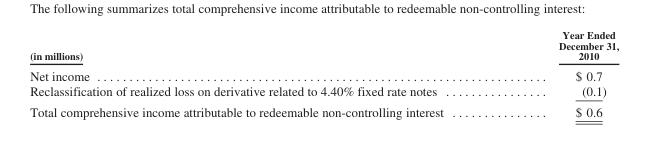table: (29, 28, 618, 118)
table column: (29, 28, 500, 118), (500, 28, 618, 118)
table column header: (29, 28, 618, 64)
table row: (29, 28, 618, 64), (29, 64, 618, 82), (29, 82, 618, 100), (29, 100, 618, 118)
